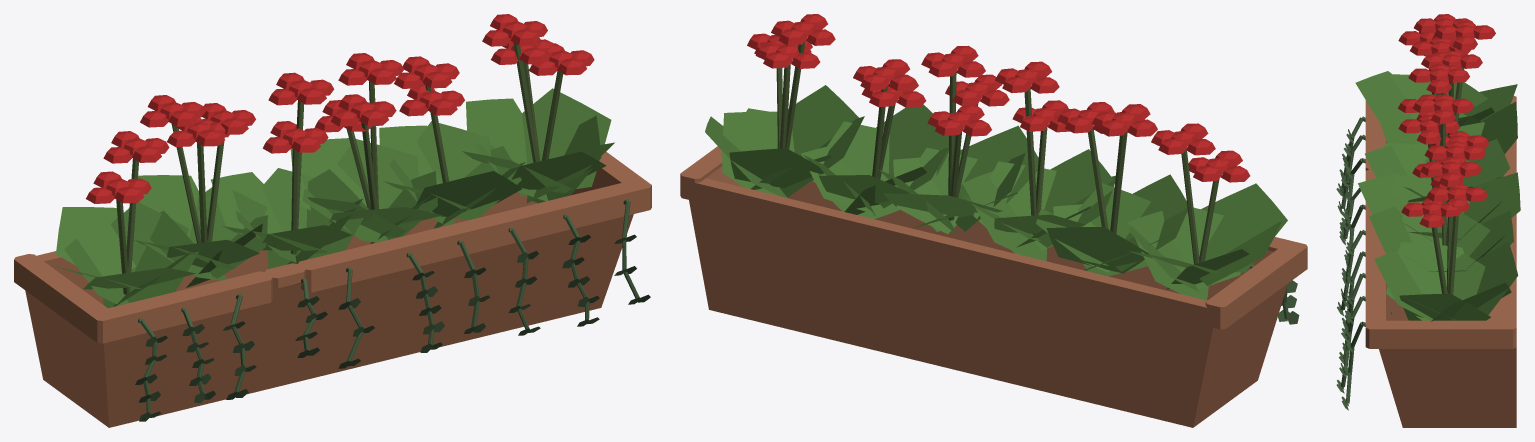
Rendered from SilverbrookPropSillPlanter.glb.
3 renders of one model, left to right at view 1: azimuth 30°, elevation 25°; view 2: azimuth 150°, elevation 25°; view 3: azimuth 270°, elevation 25°, orthographic. The views are drawn at different scales.
Visible parts, largest first — view 1: SM_SBSillPlanter_Trough, SM_SBSillPlanter_Leaves, SM_SBSillPlanter_Blooms, SM_SBSillPlanter_Stems, SM_SBSillPlanter_Thyme; view 2: SM_SBSillPlanter_Trough, SM_SBSillPlanter_Leaves, SM_SBSillPlanter_Blooms, SM_SBSillPlanter_Stems; view 3: SM_SBSillPlanter_Leaves, SM_SBSillPlanter_Trough, SM_SBSillPlanter_Blooms, SM_SBSillPlanter_Thyme, SM_SBSillPlanter_Stems.
Boxes of the visible parts, box(x1,y1,x2,y2) form: SM_SBSillPlanter_Trough: box(14, 151, 651, 427); SM_SBSillPlanter_Leaves: box(56, 88, 650, 421); SM_SBSillPlanter_Blooms: box(86, 14, 594, 203); SM_SBSillPlanter_Stems: box(116, 42, 563, 294); SM_SBSillPlanter_Thyme: box(138, 199, 639, 413); SM_SBSillPlanter_Trough: box(680, 146, 1307, 427); SM_SBSillPlanter_Leaves: box(705, 85, 1299, 324); SM_SBSillPlanter_Blooms: box(747, 14, 1250, 182); SM_SBSillPlanter_Stems: box(776, 41, 1219, 264); SM_SBSillPlanter_Leaves: box(1336, 71, 1520, 410); SM_SBSillPlanter_Trough: box(1365, 96, 1516, 427); SM_SBSillPlanter_Blooms: box(1398, 14, 1495, 227); SM_SBSillPlanter_Thyme: box(1341, 116, 1392, 403); SM_SBSillPlanter_Stems: box(1428, 67, 1464, 294).
Bounding box in the file's own units: 0.9337 × 0.4429 × 0.3077.
